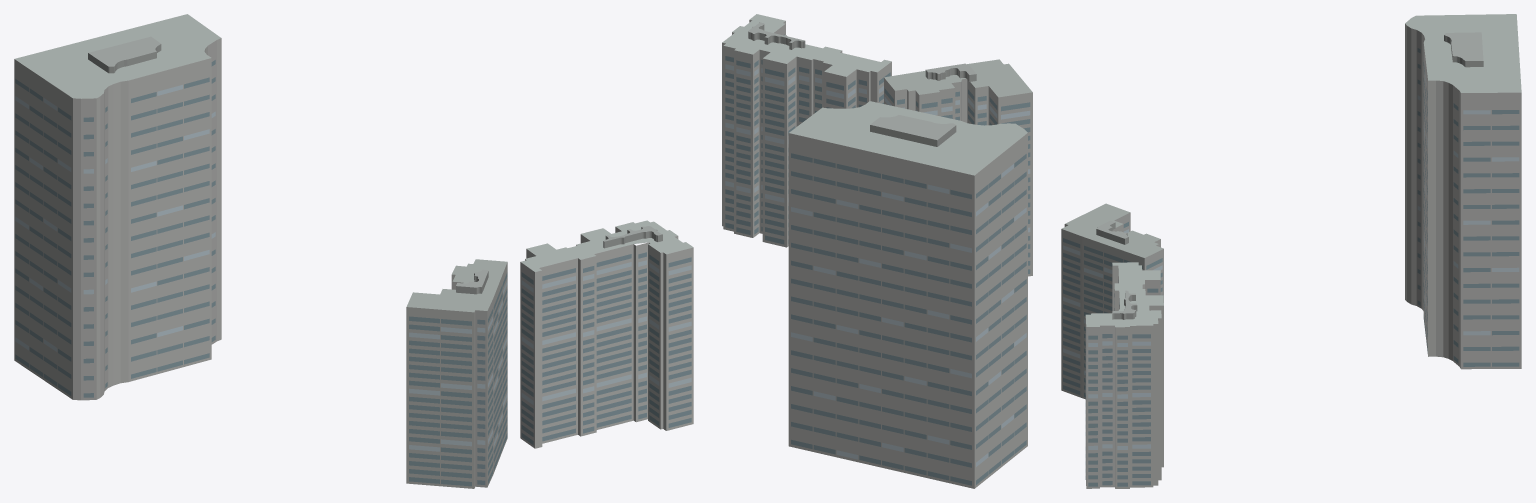
The model's file is apt-a10024562.glb.
3 renders of one model, left to right at view 1: azimuth 30°, elevation 25°; view 2: azimuth 150°, elevation 25°; view 3: azimuth 270°, elevation 25°, orthographic. The views are drawn at different scales.
Parts seen in each view (by area): view 1: apt-a10024562; view 2: apt-a10024562; view 3: apt-a10024562.
Boxes of the visible parts, x1,y1,x2,y2 form: apt-a10024562: (14,14,693,488); apt-a10024562: (722,14,1032,488); apt-a10024562: (1061,14,1521,488).
Size of the model in its own units: 168 by 111 by 164.
